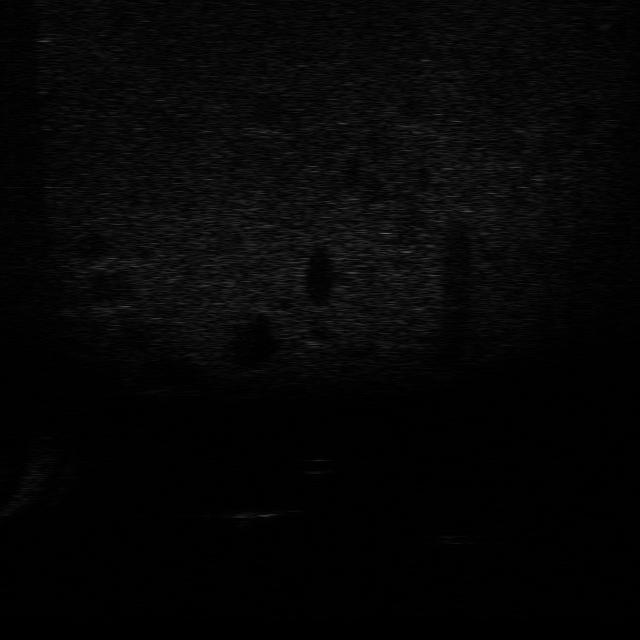ball: (295, 453, 336, 477)
square cage: (215, 502, 291, 528)
tyre: (429, 513, 486, 547)
